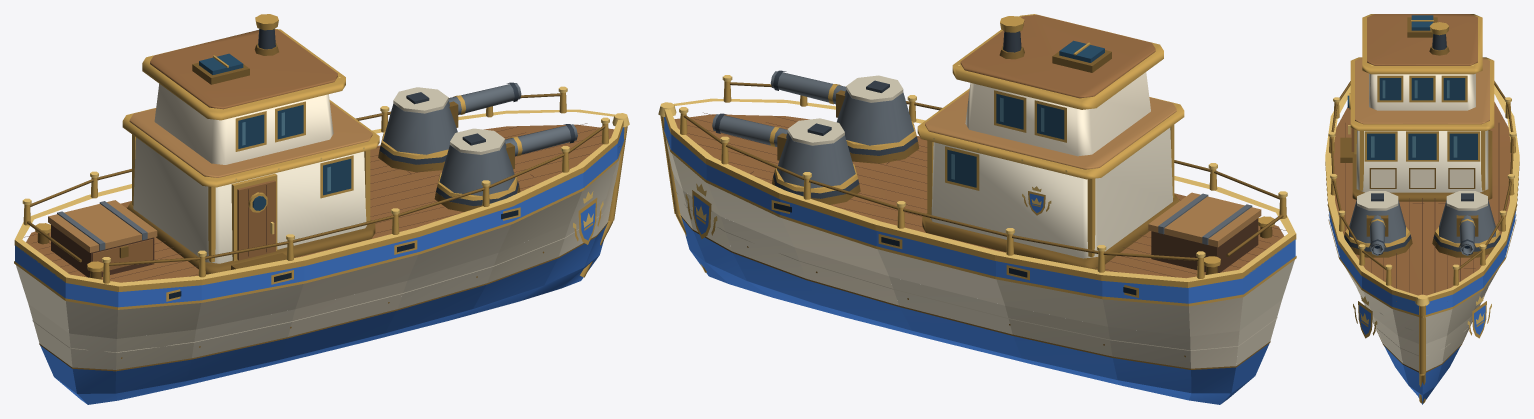
3 renders of one model, left to right at view 1: azimuth 30°, elevation 25°; view 2: azimuth 150°, elevation 25°; view 3: azimuth 270°, elevation 25°, orthographic. The views are drawn at different scales.
Visible parts, largest first — view 1: 执法者 · Royal Enforcer; view 2: 执法者 · Royal Enforcer; view 3: 执法者 · Royal Enforcer.
Part boxes in pixels (x1=…): 执法者 · Royal Enforcer: x1=14, y1=14, x2=629, y2=404; 执法者 · Royal Enforcer: x1=658, y1=14, x2=1296, y2=404; 执法者 · Royal Enforcer: x1=1325, y1=14, x2=1519, y2=404.
Bounding box in the file's own units: 1.65 × 0.878 × 0.5933.
